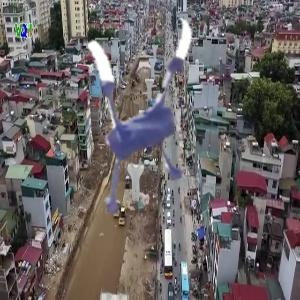drone: (29, 8, 240, 219)
